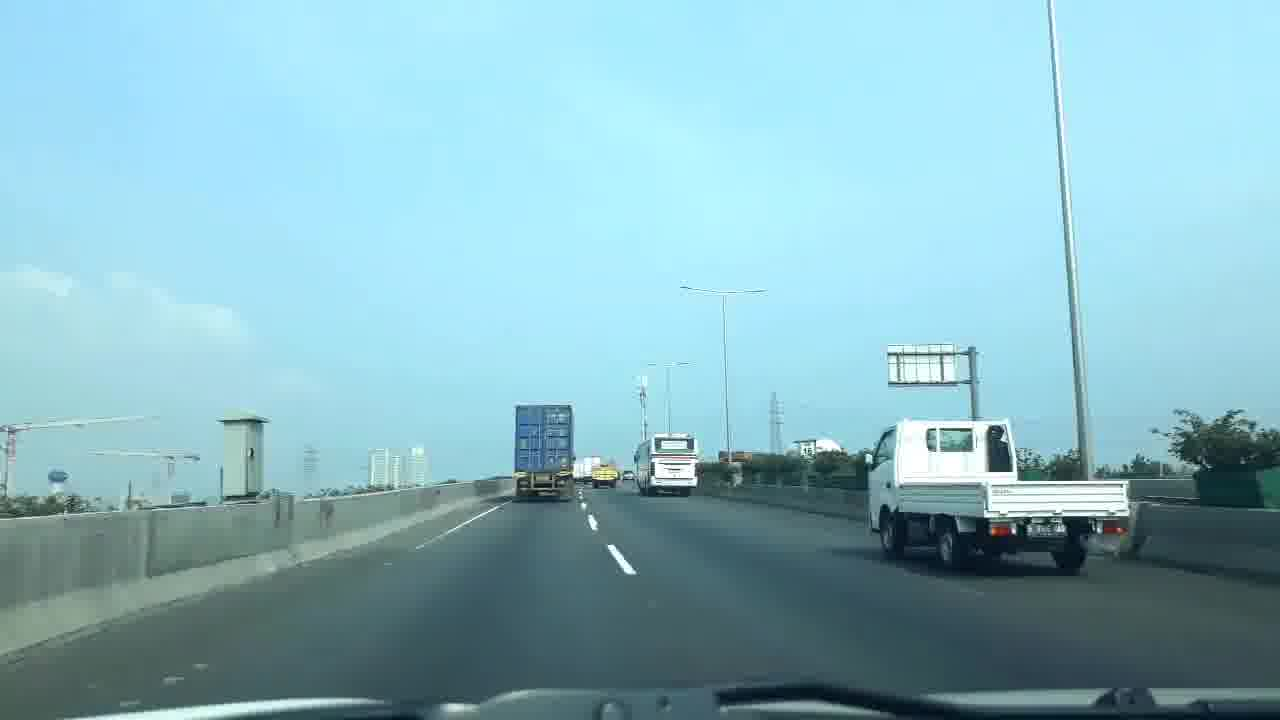plate_positive: (1026, 523, 1067, 538)
